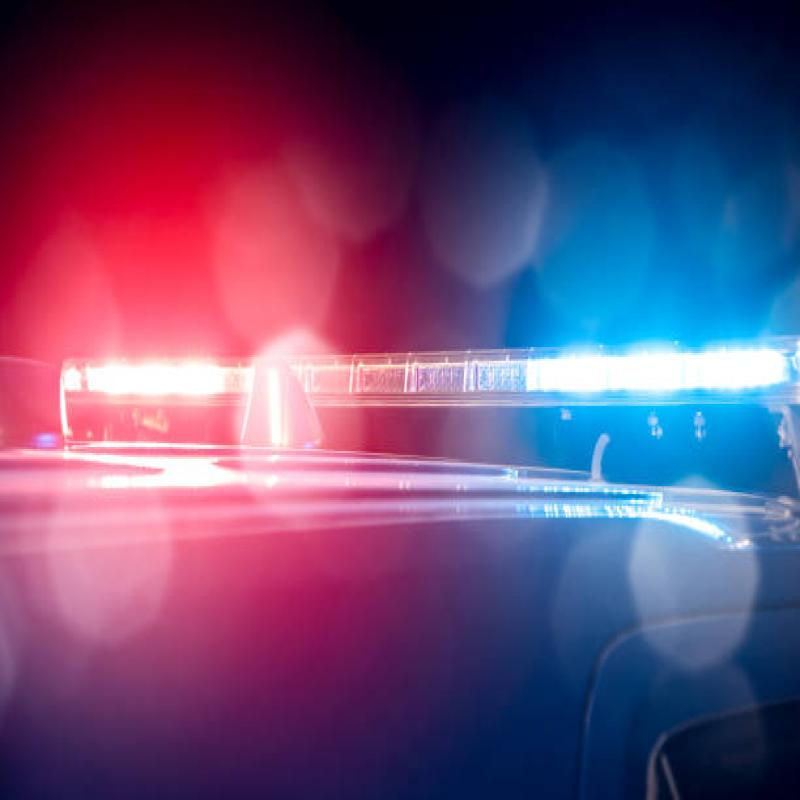AmbulanceSiren: (46, 312, 800, 452)
